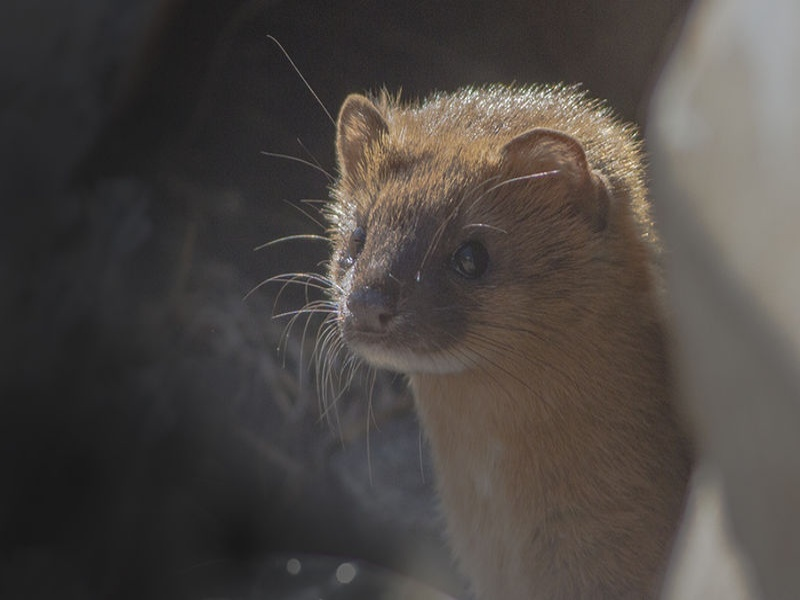minkish: (309, 86, 708, 580)
